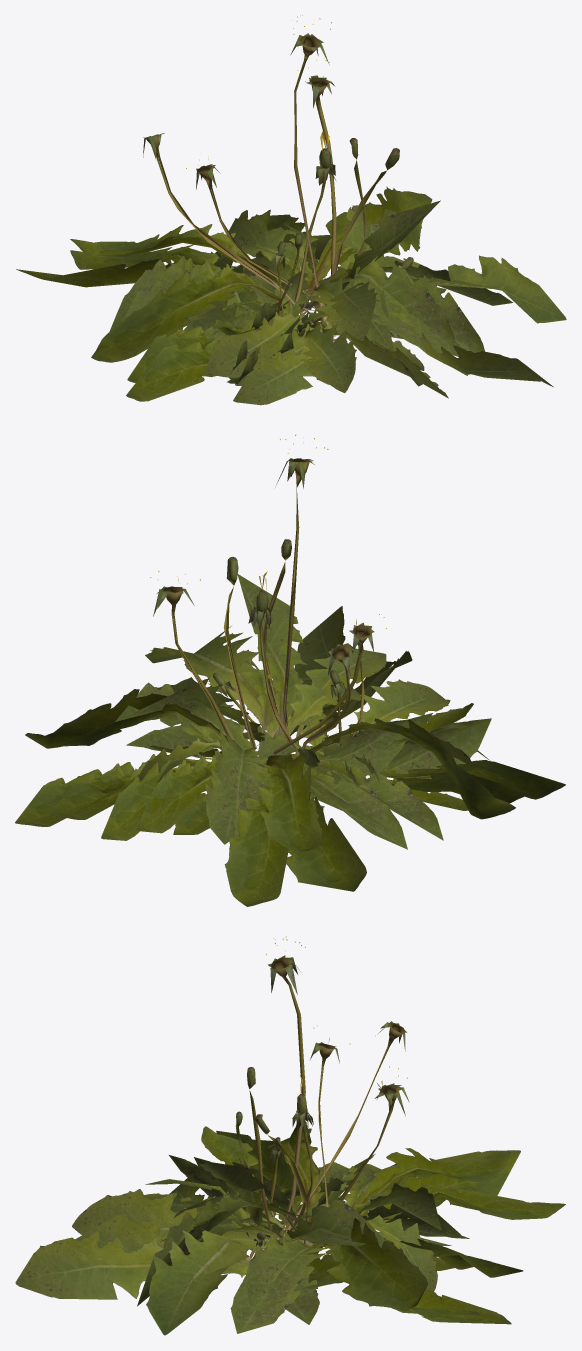
File: pissenlit.glb
3 renders of one model, top to bottom at view 1: azimuth 30°, elevation 25°; view 2: azimuth 150°, elevation 25°; view 3: azimuth 270°, elevation 25°, orthographic. The views are drawn at different scales.
Parts seen in each view (by area): view 1: dandelion_01_a_LOD0, dandelion_01_e_LOD0, dandelion_01_b_LOD0, dandelion_01_c_LOD0, dandelion_01_d_LOD0; view 2: dandelion_01_a_LOD0, dandelion_01_e_LOD0, dandelion_01_b_LOD0, dandelion_01_c_LOD0, dandelion_01_d_LOD0; view 3: dandelion_01_a_LOD0, dandelion_01_e_LOD0, dandelion_01_b_LOD0, dandelion_01_c_LOD0, dandelion_01_d_LOD0.
Part boxes in pixels (box(x1,y1,x2,y2)): dandelion_01_a_LOD0: box(70, 15, 566, 405); dandelion_01_e_LOD0: box(70, 186, 462, 386); dandelion_01_b_LOD0: box(16, 58, 512, 398); dandelion_01_c_LOD0: box(177, 131, 446, 392); dandelion_01_d_LOD0: box(183, 241, 424, 384); dandelion_01_a_LOD0: box(50, 434, 565, 906); dandelion_01_e_LOD0: box(25, 651, 515, 851); dandelion_01_b_LOD0: box(15, 557, 530, 891); dandelion_01_c_LOD0: box(126, 571, 472, 838); dandelion_01_d_LOD0: box(149, 670, 491, 807); dandelion_01_a_LOD0: box(15, 936, 565, 1335); dandelion_01_e_LOD0: box(72, 1121, 510, 1310); dandelion_01_b_LOD0: box(75, 1025, 523, 1333); dandelion_01_c_LOD0: box(144, 1075, 469, 1324); dandelion_01_d_LOD0: box(157, 1126, 444, 1289).
Size of the model in its own units: 0.2201 by 0.1633 by 0.2577.
Materials: 1 (1 with a texture image).
